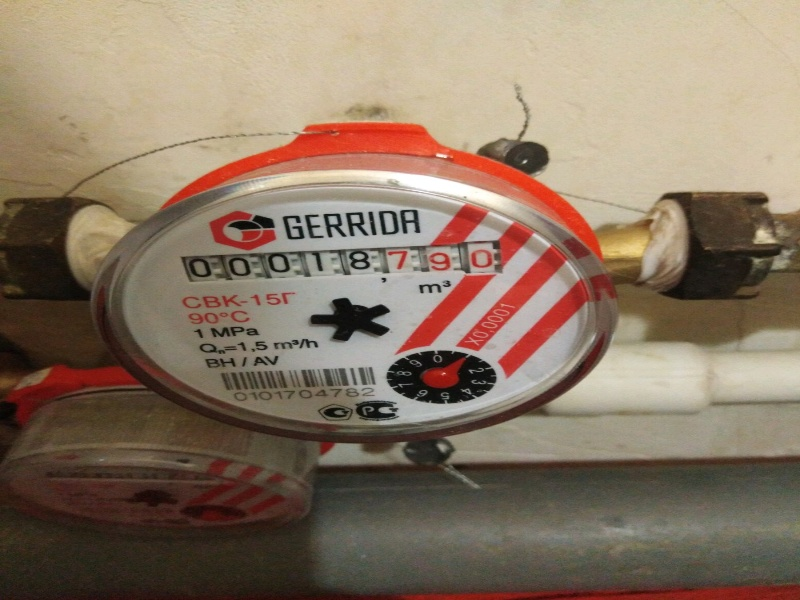meter: (168, 242, 514, 277)
